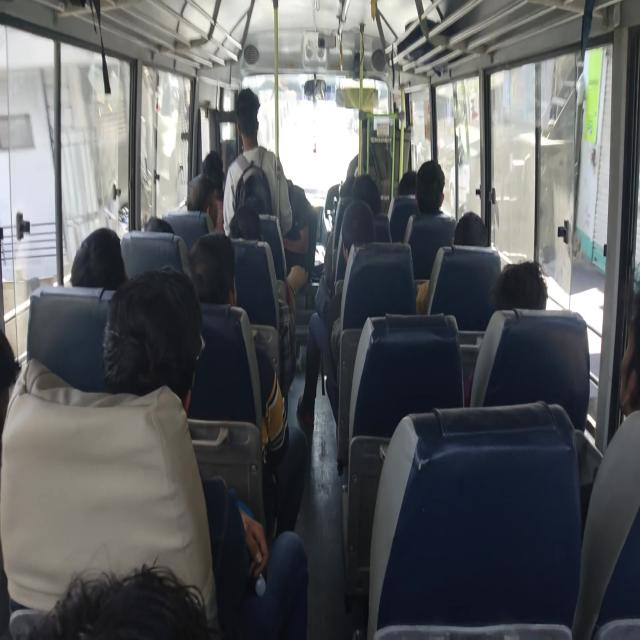person: (60, 550, 234, 640), (100, 270, 202, 390), (486, 252, 554, 336), (286, 186, 328, 288), (606, 291, 640, 414), (194, 240, 241, 314), (81, 222, 123, 284), (338, 205, 388, 254), (450, 215, 494, 269), (230, 204, 268, 258), (414, 161, 446, 222), (0, 287, 13, 435), (182, 170, 215, 212), (236, 80, 262, 133), (353, 178, 382, 213), (202, 141, 227, 179), (400, 170, 423, 207), (338, 169, 362, 202), (143, 216, 177, 239), (242, 193, 268, 220)
